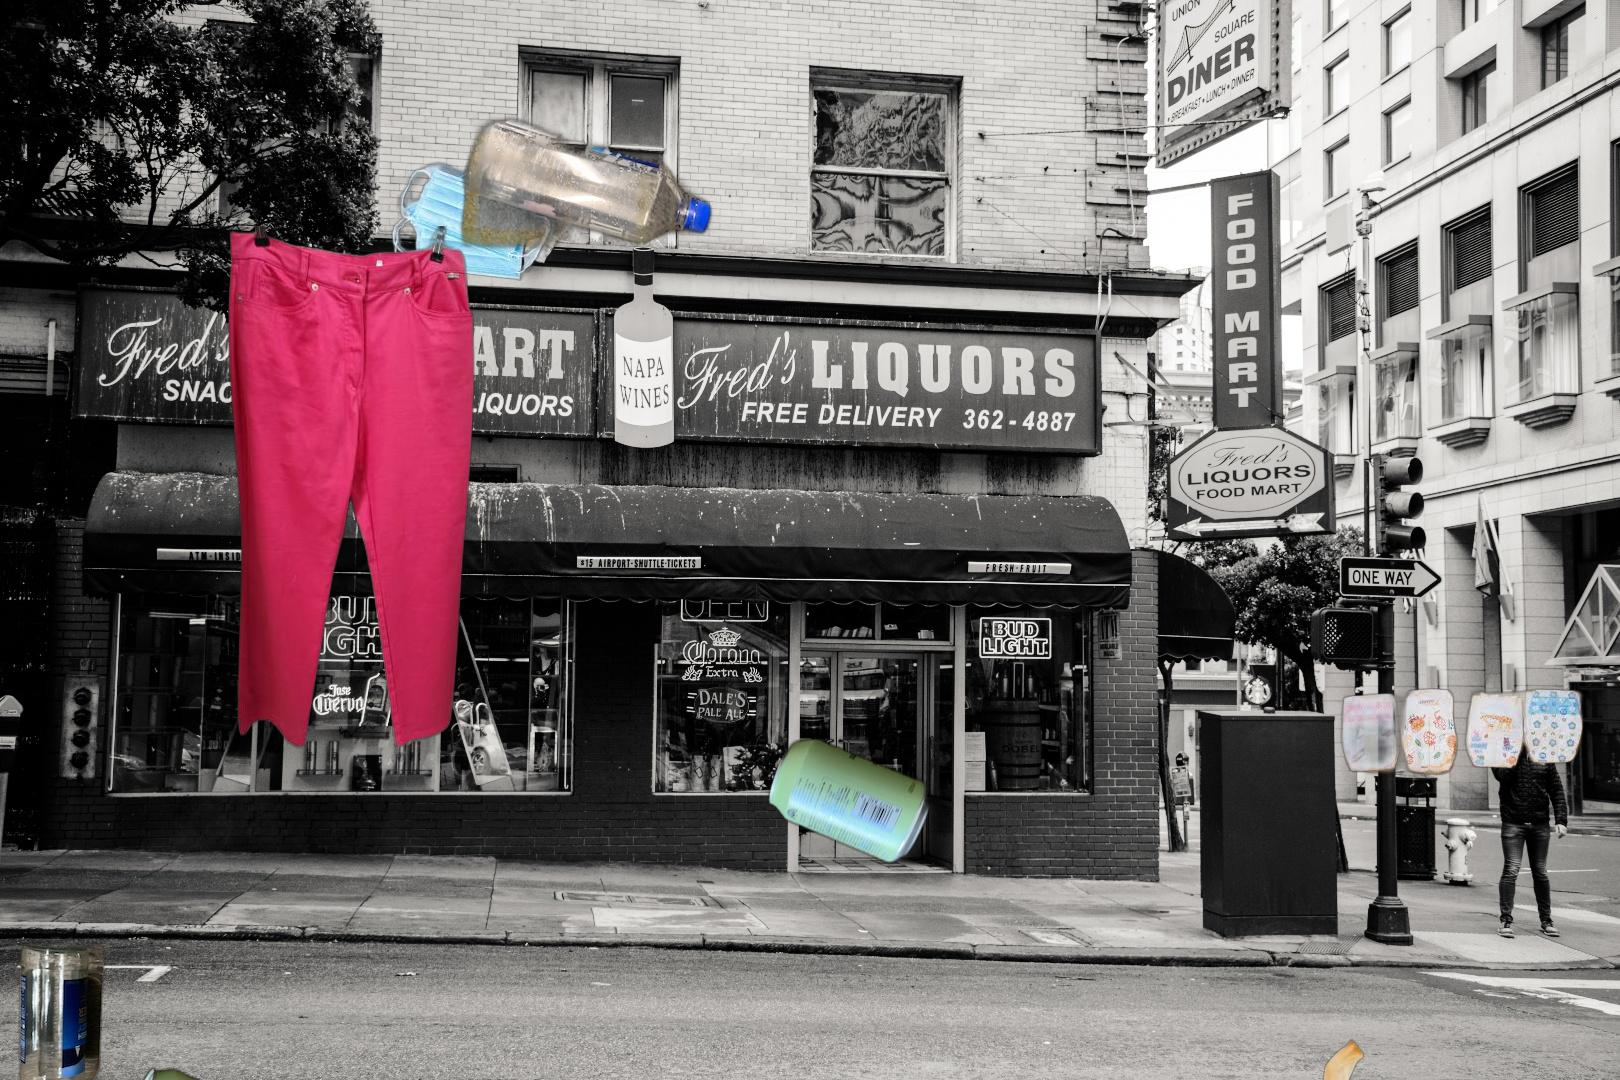clothes: (225, 225, 479, 752)
glass: (14, 934, 110, 1080)
metal-cans: (764, 733, 933, 869), (125, 1062, 287, 1080)
plastic-bag: (1232, 1037, 1432, 1080)
plastic-bottles: (454, 65, 724, 254)
trash: (1328, 682, 1604, 865), (388, 129, 574, 282)
